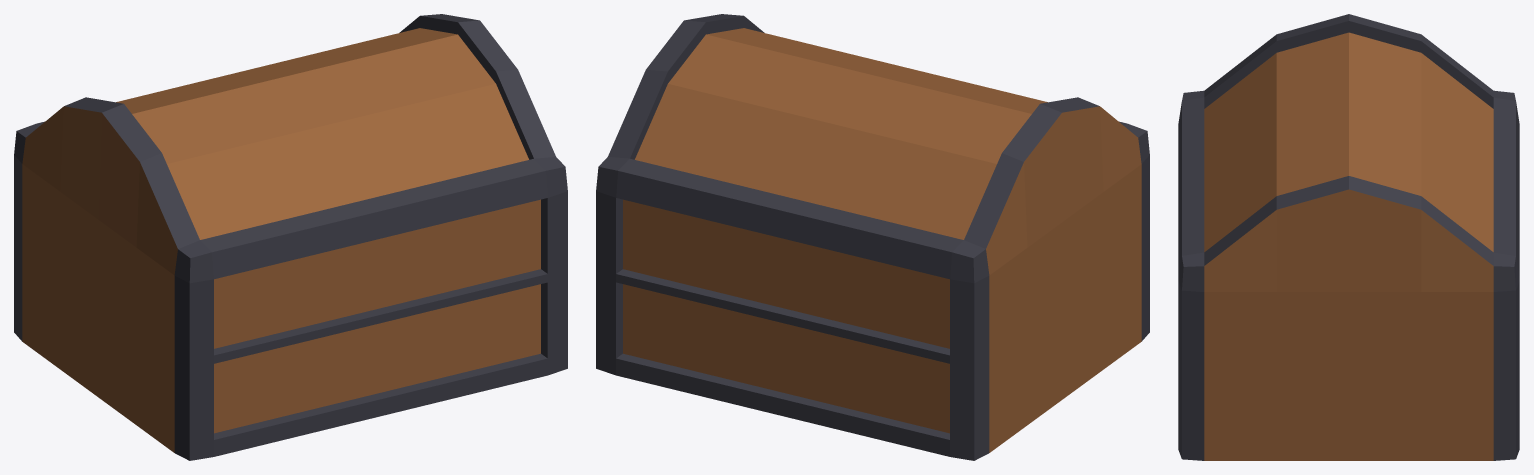
File: Chest.fbx
The picture shows the model from 3 angles, left to right: view 1: azimuth 30°, elevation 25°; view 2: azimuth 150°, elevation 25°; view 3: azimuth 270°, elevation 25°; orthographic projection. The views are drawn at different scales.
Parts seen in each view (by area): view 1: Chest; view 2: Chest; view 3: Chest.
Part boxes in pixels (<box>): Chest: <box>14,14,567,460</box>; Chest: <box>596,14,1149,460</box>; Chest: <box>1178,14,1519,460</box>.
Size of the model in its own units: 71.3 by 50.88 by 57.63.
